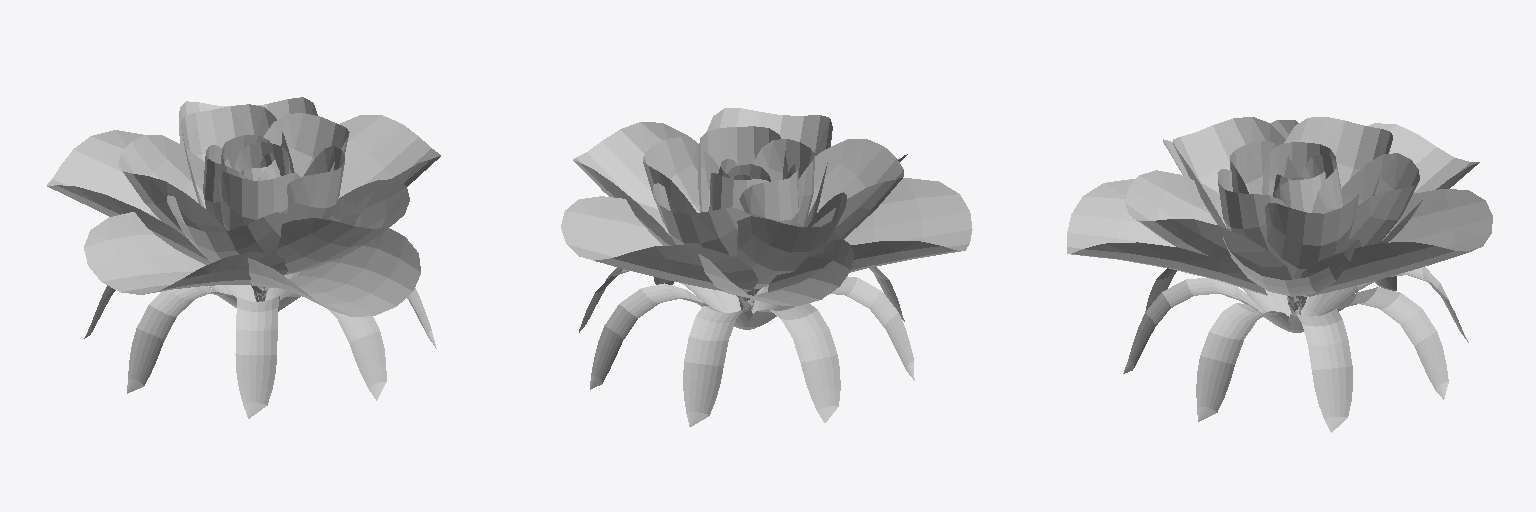
The model's file is FlowerTopModel_03_seq_0036.obj.
3 renders of one model, left to right at view 1: azimuth 30°, elevation 25°; view 2: azimuth 150°, elevation 25°; view 3: azimuth 270°, elevation 25°, orthographic.
Visible parts, largest first — view 1: FlowerTopModel_03; view 2: FlowerTopModel_03; view 3: FlowerTopModel_03.
Boxes of the visible parts, box(x1,y1,x2,y2) form: FlowerTopModel_03: box(47, 97, 440, 418); FlowerTopModel_03: box(561, 108, 972, 426); FlowerTopModel_03: box(1067, 117, 1492, 432).
Bounding box in the file's own units: 805 × 422 × 833.